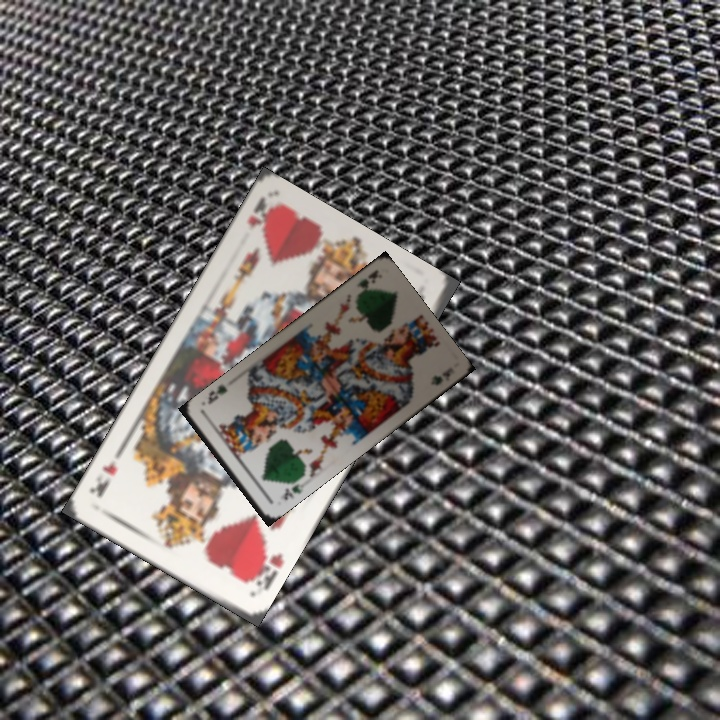GK: (352, 266, 384, 293), (280, 480, 306, 503)
HK: (243, 542, 286, 593), (243, 194, 278, 233)
